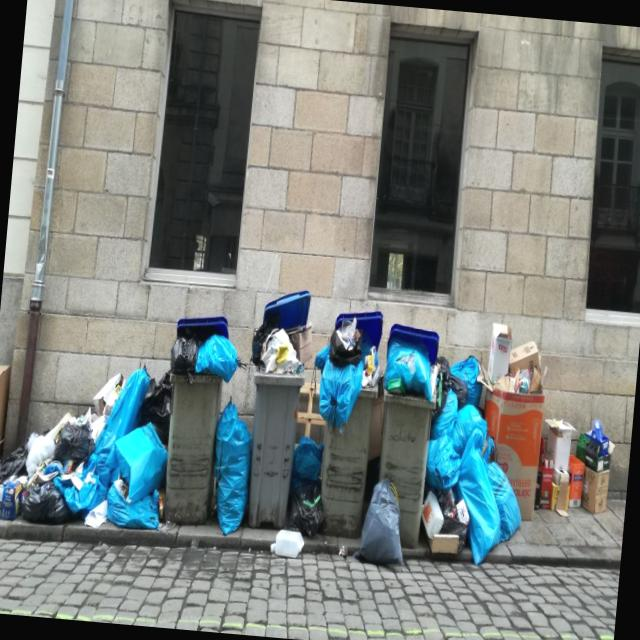garbage: (0, 261, 623, 595)
